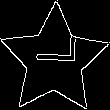L_W: (30, 44, 79, 77)
